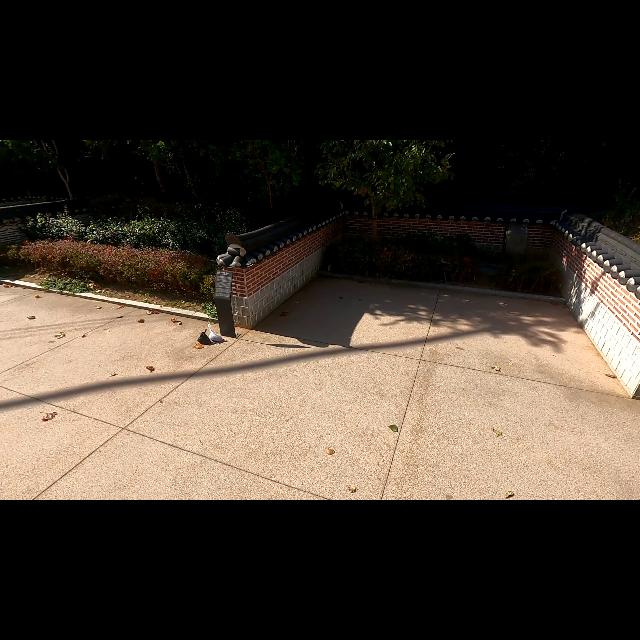trash: (203, 324, 224, 344), (196, 329, 212, 347)
